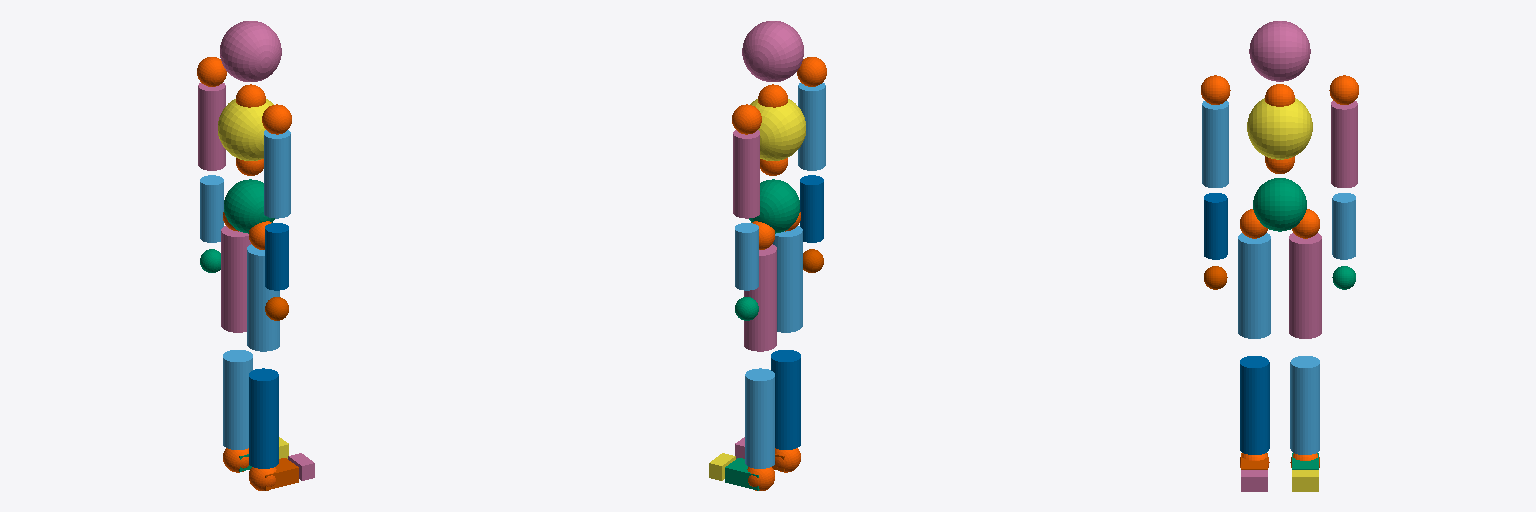
--- Render facts (derived) ---
3 views of the same robot in one strip: view 1: azimuth 30°, elevation 25°; view 2: azimuth 150°, elevation 25°; view 3: azimuth 270°, elevation 25° (orthographic).
Robot: W0007 — 35 links, 34 joints (28 revolute, 6 fixed); root link base_link; default pose: all joints at 0.
Links seen in each view (by area): view 1: neck, right_knee, left_hip, left_knee, right_hip, chest, right_shoulder, left_shoulder, root, right_elbow, left_elbow, chest_right_shoulder_link2 (+3 smaller); view 2: neck, left_knee, right_hip, right_knee, left_hip, chest, left_shoulder, right_shoulder, root, left_elbow, right_elbow, chest_left_shoulder_link2 (+3 smaller); view 3: right_hip, left_hip, chest, neck, right_knee, left_knee, right_shoulder, left_shoulder, root, right_elbow, left_elbow, chest_right_shoulder_link2 (+6 smaller).
Link boxes in pixels (x1,y1,x2,y2): neck: [220, 21, 281, 81]; right_knee: [249, 368, 278, 468]; left_hip: [221, 226, 250, 332]; left_knee: [223, 350, 252, 449]; right_hip: [247, 244, 279, 351]; chest: [218, 99, 273, 160]; right_shoulder: [264, 130, 290, 218]; left_shoulder: [198, 83, 225, 170]; root: [224, 179, 274, 233]; right_elbow: [265, 223, 288, 290]; left_elbow: [200, 175, 223, 242]; chest_right_shoulder_link2: [262, 104, 291, 134]; neck: [742, 21, 803, 81]; left_knee: [745, 368, 774, 468]; right_hip: [773, 226, 802, 332]; right_knee: [771, 350, 800, 449]; left_hip: [744, 244, 776, 351]; chest: [750, 99, 805, 160]; left_shoulder: [733, 130, 759, 218]; right_shoulder: [798, 83, 825, 170]; root: [749, 179, 799, 233]; left_elbow: [735, 223, 758, 290]; right_elbow: [800, 175, 823, 242]; chest_left_shoulder_link2: [732, 104, 761, 134]; right_hip: [1238, 233, 1270, 338]; left_hip: [1289, 233, 1321, 338]; chest: [1247, 98, 1312, 159]; neck: [1249, 21, 1310, 81]; right_knee: [1240, 356, 1269, 454]; left_knee: [1290, 356, 1319, 454]; right_shoulder: [1202, 101, 1228, 187]; left_shoulder: [1331, 101, 1357, 187]; root: [1253, 178, 1306, 231]; right_elbow: [1204, 193, 1227, 259]; left_elbow: [1332, 193, 1355, 259]; chest_right_shoulder_link2: [1201, 75, 1230, 104].
Size in the robot's own frame: 0.28 by 0.53 by 1.67 metres.
Geometry: primitives only (box / cylinder / sphere), no mesh files.

robot.urdf — W0007:
<?xml version="1.0" ?>
            <robot name="W0007">
            <material name="orange">
                <color rgba="1.0 0.4235294117647059 0.0392156862745098 1.0"/>
            </material>
            <link name="base_link">
                </link>
            <link name="base">
                </link>
            <joint name="j_base_base_link_rotation" type="fixed">
                <parent link="base_link"/>
                <child link="base"/>
                <origin rpy="1.5707963267948966 0 0" xyz="0 0 0"/>
            </joint>
            <link name="root">
                <inertial>
                <origin rpy="0 0 0" xyz="0.0 0.07 0.0"/>
                <mass value="6.000000"/>
                <inertia ixx="0.019440000000000002" ixy="0" ixz="0" iyy="0.019440000000000002" iyz="0" izz="0.019440000000000002"/>
                </inertial>
                <collision>
                <origin rpy="0 0 0" xyz="0.000000 0.070000 0.000000"/>
                <geometry>
                    <sphere radius="0.09"/>
                </geometry>
                </collision>
                <visual>
                <origin rpy="0 0 0" xyz="0.000000 0.070000 0.000000"/>
                <geometry>
                    <sphere radius="0.09"/>
                </geometry>
                </visual>
            </link>
            <joint name="j_root" type="fixed">
                <parent link="base"/>
                <child link="root"/>
                <origin rpy="0 0 0" xyz="0 0.000000 0.000000"/>
            </joint>
            <link name="chest">
                <inertial>
                <origin rpy="0 0 0" xyz="0.000000 0.120000 0.000000"/>
                <mass value="14.000000"/>
                <inertia ixx="0.06776000000000001" ixy="0" ixz="0" iyy="0.06776000000000001" iyz="0" izz="0.06776000000000001"/>
                </inertial>
                <collision>
                <origin rpy="0 0 0" xyz="0.000000 0.120000 0.000000"/>
                <geometry>
                    <sphere radius="0.11"/>
                </geometry>
                </collision>
                <visual>
                <origin rpy="0 0 0" xyz="0.000000 0.120000 0.000000"/>
                <geometry>
                    <sphere radius="0.11"/>
                </geometry>
                </visual>
            </link>
            <link name="root_chest_link1">
                <inertial>
                <mass value="1e-02"/>
                <inertia ixx="1e-02" ixy="0" ixz="0" iyy="1e-02" iyz="0" izz="1e-02"/>
                </inertial>
            </link>
            <joint name="j_root_chest_joint1" type="revolute">
                <origin rpy="0 0 0" xyz="0.0 0.236151 0.000000"/>
                <parent link="root"/>
                <child link="root_chest_link1"/>
                <axis xyz="1 0 0"/>
                <limit effort="200" lower="-1.2" upper="1.2" velocity="3"/>
            </joint>
            <link name="root_chest_link2">
                <inertial>
                <mass value="1e-02"/>
                <inertia ixx="1e-02" ixy="0" ixz="0" iyy="1e-02" iyz="0" izz="1e-02"/>
                </inertial>
                <visual>
                <geometry>
                    <sphere radius="0.05"/>
                </geometry>
                <material name="orange"/>
                </visual>
            </link>
            <joint name="j_root_chest_joint2" type="revolute">
                <parent link="root_chest_link1"/>
                <child link="root_chest_link2"/>
                <axis xyz="0 1 0"/>
                <limit effort="200" lower="-1.2" upper="1.2" velocity="3"/>
            </joint>
            <joint name="j_root_chest_joint3" type="revolute">
                <parent link="root_chest_link2"/>
                <child link="chest"/>
                <axis xyz="0 0 1"/>
                <limit effort="200" lower="-1.2" upper="1.2" velocity="3"/>
            </joint>
            <link name="neck">
                <inertial>
                <origin rpy="0 0 0" xyz="0.0 0.175 0.0"/>
                <mass value="2.000000"/>
                <inertia ixx="0.008405" ixy="0" ixz="0" iyy="0.008405" iyz="0" izz="0.008405"/>
                </inertial>
                <collision>
                <origin rpy="0 0 0" xyz="0.0 0.175 0.0"/>
                <geometry>
                    <sphere radius="0.1025"/>
                </geometry>
                </collision>
                <visual>
                <origin rpy="0 0 0" xyz="0.0 0.175 0.0"/>
                <geometry>
                    <sphere radius="0.1025"/>
                </geometry>
                </visual>
            </link>
            <link name="chest_neck_link1">
                <inertial>
                <mass value="1e-02"/>
                <inertia ixx="1e-02" ixy="0" ixz="0" iyy="1e-02" iyz="0" izz="1e-02"/>
                </inertial>
            </link>
            <joint name="j_chest_neck_joint1" type="revolute">
                <origin rpy="0 0 0" xyz="0.000000 0.223894 0.000000"/>
                <parent link="chest"/>
                <child link="chest_neck_link1"/>
                <axis xyz="1 0 0"/>
                <limit effort="50" lower="-1" upper="1" velocity="3"/>
            </joint>
            <link name="chest_neck_link2">
                <inertial>
                <mass value="1e-02"/>
                <inertia ixx="1e-02" ixy="0" ixz="0" iyy="1e-02" iyz="0" izz="1e-02"/>
                </inertial>
                <visual>
                <geometry>
                    <sphere radius="0.05"/>
                </geometry>
                <material name="orange"/>
                </visual>
            </link>
            <joint name="j_chest_neck_joint2" type="revolute">
                <parent link="chest_neck_link1"/>
                <child link="chest_neck_link2"/>
                <axis xyz="0 1 0"/>
                <limit effort="50" lower="-1" upper="1" velocity="3"/>
            </joint>
            <joint name="j_chest_neck_joint3" type="revolute">
                <parent link="chest_neck_link2"/>
                <child link="neck"/>
                <axis xyz="0 0 1"/>
                <limit effort="50" lower="-1" upper="1" velocity="3"/>
            </joint>
            <link name="right_hip">
                <inertial>
                <origin rpy="0 0 0" xyz="0.000000 -0.210000 0.000000"/>
                <mass value="4.500000"/>
                <inertia ixx="0.037153124999999995" ixy="0.0" ixz="0.0" iyy="0.037153124999999995" iyz="0.0" izz="0.00680625"/>
                </inertial>
                <collision>
                <origin rpy="1.5707963267948966 0 0" xyz="0.000000 -0.210000 0.000000"/>
                <geometry>
                    <cylinder length="0.22499999999999998" radius="0.0275"/>
                </geometry>
                </collision>
                <visual>
                <origin rpy="1.5707963267948966 0 0" xyz="0.000000 -0.22440000000000004 0.000000"/>
                <geometry>
                    <cylinder length="0.3488000000000001" radius="0.055"/>
                </geometry>
                </visual>
            </link>
            <link name="root_right_hip_link1">
                <inertial>
                <mass value="1e-02"/>
                <inertia ixx="1e-02" ixy="0" ixz="0" iyy="1e-02" iyz="0" izz="1e-02"/>
                </inertial>
            </link>
            <joint name="j_root_right_hip_joint1" type="revolute">
                <origin rpy="0 0 0" xyz="0.000000 0.000000 0.084887"/>
                <parent link="root"/>
                <child link="root_right_hip_link1"/>
                <axis xyz="1 0 0"/>
                <limit effort="200" lower="-1.5" upper="1.5" velocity="3"/>
            </joint>
            <link name="root_right_hip_link2">
                <inertial>
                <mass value="1e-02"/>
                <inertia ixx="1e-02" ixy="0" ixz="0" iyy="1e-02" iyz="0" izz="1e-02"/>
                </inertial>
                <visual>
                <geometry>
                    <sphere radius="0.05"/>
                </geometry>
                <material name="orange"/>
                </visual>
            </link>
            <joint name="j_root_right_hip_joint2" type="revolute">
                <parent link="root_right_hip_link1"/>
                <child link="root_right_hip_link2"/>
                <axis xyz="0 1 0"/>
                <limit effort="200" lower="-1.5" upper="1.5" velocity="3"/>
            </joint>
            <joint name="j_root_right_hip_joint3" type="revolute">
                <parent link="root_right_hip_link2"/>
                <child link="right_hip"/>
                <axis xyz="0 0 1"/>
                <limit effort="200" lower="-1.5" upper="1.5" velocity="3"/>
            </joint>
            <link name="right_knee">
                <inertial>
                <origin rpy="0 0 0" xyz="0.000000 -0.200000 0.000000"/>
                <mass value="3.000000"/>
                <inertia ixx="0.1" ixy="0" ixz="0" iyy="0.1" iyz="0" izz="0.1"/>
                </inertial>
                <collision>
                <origin rpy="1.5707963267948966 0 0" xyz="0.000000 -0.200000 0.000000"/>
                <geometry>
                    <cylinder length="0.23249999999999998" radius="0.025"/>
                </geometry>
                </collision>
                <visual>
                <origin rpy="1.5707963267948966 0 0" xyz="0.000000 -0.2 0.000000"/>
                <geometry>
                    <cylinder length="0.32" radius="0.05"/>
                </geometry>
                </visual>
            </link>
            <joint name="j_right_knee" type="revolute">
                <parent link="right_hip"/>
                <child link="right_knee"/>
                <limit effort="150.0" lower="-3.14" upper="0." velocity="0.5"/>
                <origin rpy="0 0 0" xyz="0.000000 -0.46880000000000005 0.000000"/>
                <axis xyz="0.000000 0.000000 1.000000"/>
            </joint>
            <link name="right_ankle">
                <inertial>
                <origin rpy="0 0 0" xyz="0.045 -0.00225 0.000000"/>
                <mass value="1.000000"/>
                <inertia ixx="0.0009270833333333333" ixy="0.0" ixz="0.0" iyy="0.0028628333333333327" iyz="0.0" izz="0.003285749999999999"/>
                </inertial>
                <collision>
                <origin rpy="0 0 0" xyz="0.045 -0.00225 0.000000"/>
                <geometry>
                    <box size="0.127 0.055 0.09"/>
                </geometry>
                </collision>
                <visual>
                <origin rpy="0 0 0" xyz="0.045 -0.00225 0.000000"/>
                <geometry>
                    <box size="0.127 0.055 0.09"/>
                </geometry>
                </visual>
            </link>
            <joint name="j_right_toe" type="fixed">
                <parent link="right_ankle"/>
                <child link="right_toe"/>
                <limit effort="150.0" lower="-3.14" upper="0." velocity="0.5"/>
                <origin rpy="0 0 0" xyz="0.1 0.0 0.0"/>
                <axis xyz="0.000000 0.000000 1.000000"/>
            </joint>
            <link name="right_toe">
                <inertial>
                <origin rpy="0 0 0" xyz="0.045 0.0 0.0"/>
                <mass value="0.3"/>
                <inertia ixx="0.0009270833333333333" ixy="0.0" ixz="0.0" iyy="0.0028628333333333327" iyz="0.0" izz="0.003285749999999999"/>
                </inertial>
                <collision>
                <origin rpy="0 0 0" xyz="0.045 0.0 0.0"/>
                <geometry>
                    <box size="0.05 0.055 0.09"/>
                </geometry>
                </collision>
                <visual>
                <origin rpy="0 0 0" xyz="0.045 0.0 0.0"/>
                <geometry>
                    <box size="0.05 0.055 0.09"/>
                </geometry>
                </visual>
            </link>
            <link name="right_knee_right_ankle_link1">
                <inertial>
                <mass value="1e-02"/>
                <inertia ixx="1e-02" ixy="0" ixz="0" iyy="1e-02" iyz="0" izz="1e-02"/>
                </inertial>
            </link>
            <joint name="j_right_knee_right_ankle_joint1" type="revolute">
                <origin rpy="0 0 0" xyz="0.000000 -0.41000000000000003 0.000000"/>
                <parent link="right_knee"/>
                <child link="right_knee_right_ankle_link1"/>
                <axis xyz="1 0 0"/>
                <limit effort="90" lower="-1.2" upper="1.2" velocity="3"/>
            </joint>
            <link name="right_knee_right_ankle_link2">
                <inertial>
                <mass value="1e-02"/>
                <inertia ixx="1e-02" ixy="0" ixz="0" iyy="1e-02" iyz="0" izz="1e-02"/>
                </inertial>
                <visual>
                <geometry>
                    <sphere radius="0.05"/>
                </geometry>
                <material name="orange"/>
                </visual>
            </link>
            <joint name="j_right_knee_right_ankle_joint2" type="revolute">
                <parent link="right_knee_right_ankle_link1"/>
                <child link="right_knee_right_ankle_link2"/>
                <axis xyz="0 1 0"/>
                <limit effort="90" lower="-1.2" upper="1.2" velocity="3"/>
            </joint>
            <joint name="j_right_knee_right_ankle_joint3" type="revolute">
                <parent link="right_knee_right_ankle_link2"/>
                <child link="right_ankle"/>
                <axis xyz="0 0 1"/>
                <limit effort="90" lower="-1.2" upper="1.2" velocity="3"/>
            </joint>
            <link name="right_shoulder">
                <inertial>
                <origin rpy="0 0 0" xyz="0.000000 -0.140000 0.000000"/>
                <mass value="1.500000"/>
                <inertia ixx="0.004809374999999999" ixy="0.0" ixz="0.0" iyy="0.004809374999999999" iyz="0.0" izz="0.0015187500000000001"/>
                </inertial>
                <collision>
                <origin rpy="1.5707963267948966 0 0" xyz="0.000000 -0.140000 0.000000"/>
                <geometry>
                    <cylinder length="0.135" radius="0.0225"/>
                </geometry>
                </collision>
                <visual>
                <origin rpy="1.5707963267948966 0 0" xyz="0.000000 -0.195 0.000000"/>
                <geometry>
                    <cylinder length="0.29" radius="0.045"/>
                </geometry>
                </visual>
            </link>
            <link name="chest_right_shoulder_link1">
                <inertial>
                <mass value="1e-02"/>
                <inertia ixx="1e-02" ixy="0" ixz="0" iyy="1e-02" iyz="0" izz="1e-02"/>
                </inertial>
            </link>
            <joint name="j_chest_right_shoulder_joint1" type="revolute">
                <origin rpy="0 0 0" xyz="-0.02406 0.24350 0.215"/>
                <parent link="chest"/>
                <child link="chest_right_shoulder_link1"/>
                <axis xyz="1 0 0"/>
                <limit effort="100" lower="-3.14" upper="3.14" velocity="3"/>
            </joint>
            <link name="chest_right_shoulder_link2">
                <inertial>
                <mass value="1e-02"/>
                <inertia ixx="1e-02" ixy="0" ixz="0" iyy="1e-02" iyz="0" izz="1e-02"/>
                </inertial>
                <visual>
                <geometry>
                    <sphere radius="0.05"/>
                </geometry>
                <material name="orange"/>
                </visual>
            </link>
            <joint name="j_chest_right_shoulder_joint2" type="revolute">
                <parent link="chest_right_shoulder_link1"/>
                <child link="chest_right_shoulder_link2"/>
                <axis xyz="0 1 0"/>
                <limit effort="100" lower="-3.14" upper="3.14" velocity="3"/>
            </joint>
            <joint name="j_chest_right_shoulder_joint3" type="revolute">
                <parent link="chest_right_shoulder_link2"/>
                <child link="right_shoulder"/>
                <axis xyz="0 0 1"/>
                <limit effort="100" lower="-3.14" upper="3.14" velocity="3"/>
            </joint>
            <link name="right_elbow">
                <inertial>
                <origin rpy="0 0 0" xyz="0.000000 -0.120000 0.000000"/>
                <mass value="1.000000"/>
                <inertia ixx="0.0019187499999999999" ixy="0.0" ixz="0.0" iyy="0.0019187499999999999" iyz="0.0" izz="0.0008"/>
                </inertial>
                <collision>
                <origin rpy="1.5707963267948966 0 0" xyz="0.0 -0.12 0.0"/>
                <geometry>
                    <cylinder length="0.10125" radius="0.02"/>
                </geometry>
                </collision>
                <visual>
                <origin rpy="1.5707963267948966 0 0" xyz="0.0 -0.12 0.0"/>
                <geometry>
                    <cylinder length="0.21" radius="0.04"/>
                </geometry>
                </visual>
            </link>
            <joint name="j_right_elbow" type="revolute">
                <parent link="right_shoulder"/>
                <child link="right_elbow"/>
                <limit effort="60.0" lower="0" upper="3.14" velocity="0.5"/>
                <origin rpy="0 0 0" xyz="0.000000 -0.38 0.000000"/>
                <axis xyz="0.000000 0.000000 1.000000"/>
            </joint>
            <link name="right_wrist">
                <inertial>
                <origin rpy="0 0 0" xyz="0.000000 0.000000 0.000000"/>
                <mass value="0.500000"/>
                <inertia ixx="0.00032" ixy="0" ixz="0" iyy="0.00032" iyz="0" izz="0.00032"/>
                </inertial>
                <collision>
                <origin rpy="0 0 0" xyz="0.000000 0.000000 0.000000"/>
                <geometry>
                    <sphere radius="0.04"/>
                </geometry>
                </collision>
                <visual>
                <origin rpy="0 0 0" xyz="0.000000 0.000000 0.000000"/>
                <geometry>
                    <sphere radius="0.04"/>
                </geometry>
                </visual>
            </link>
            <joint name="j_right_wrist" type="fixed">
                <parent link="right_elbow"/>
                <child link="right_wrist"/>
                <origin rpy="0 0 0" xyz="0.000000 -0.31 0.000000"/>
            </joint>
            <link name="left_hip">
                <inertial>
                <origin rpy="0 0 0" xyz="0.000000 -0.210000 0.000000"/>
                <mass value="4.500000"/>
                <inertia ixx="0.037153124999999995" ixy="0.0" ixz="0.0" iyy="0.037153124999999995" iyz="0.0" izz="0.00680625"/>
                </inertial>
                <collision>
                <origin rpy="1.5707963267948966 0 0" xyz="0.000000 -0.210000 0.000000"/>
                <geometry>
                    <cylinder length="0.22499999999999998" radius="0.0275"/>
                </geometry>
                </collision>
                <visual>
                <origin rpy="1.5707963267948966 0 0" xyz="0.000000 -0.22440000000000004 0.000000"/>
                <geometry>
                    <cylinder length="0.3488000000000001" radius="0.055"/>
                </geometry>
                </visual>
            </link>
            <link name="root_left_hip_link1">
                <inertial>
                <mass value="1e-02"/>
                <inertia ixx="1e-02" ixy="0" ixz="0" iyy="1e-02" iyz="0" izz="1e-02"/>
                </inertial>
            </link>
            <joint name="j_root_left_hip_joint1" type="revolute">
                <origin rpy="0 0 0" xyz="0.000000 0.000000 -0.084887"/>
                <parent link="root"/>
                <child link="root_left_hip_link1"/>
                <axis xyz="1 0 0"/>
                <limit effort="200" lower="-1.5" upper="1.5" velocity="3"/>
            </joint>
            <link name="root_left_hip_link2">
                <inertial>
                <mass value="1e-02"/>
                <inertia ixx="1e-02" ixy="0" ixz="0" iyy="1e-02" iyz="0" izz="1e-02"/>
                </inertial>
                <visual>
                <geometry>
                    <sphere radius="0.05"/>
                </geometry>
                <material name="orange"/>
                </visual>
            </link>
            <joint name="j_root_left_hip_joint2" type="revolute">
                <parent link="root_left_hip_link1"/>
                <child link="root_left_hip_link2"/>
                <axis xyz="0 1 0"/>
                <limit effort="200" lower="-1.5" upper="1.5" velocity="3"/>
            </joint>
            <joint name="j_root_left_hip_joint3" type="revolute">
                <parent link="root_left_hip_link2"/>
                <child link="left_hip"/>
                <axis xyz="0 0 1"/>
                <limit effort="200" lower="-1.5" upper="1.5" velocity="3"/>
            </joint>
            <link name="left_knee">
                <inertial>
                <origin rpy="0 0 0" xyz="0.000000 -0.200000 0.000000"/>
                <mass value="3.000000"/>
                <inertia ixx="0.025900000000000003" ixy="0.0" ixz="0.0" iyy="0.025900000000000003" iyz="0.0" izz="0.0037500000000000007"/>
                </inertial>
                <collision>
                <origin rpy="1.5707963267948966 0 0" xyz="0.000000 -0.200000 0.000000"/>
                <geometry>
                    <cylinder length="0.23249999999999998" radius="0.025"/>
                </geometry>
                </collision>
                <visual>
                <origin rpy="1.5707963267948966 0 0" xyz="0.000000 -0.2 0.000000"/>
                <geometry>
                    <cylinder length="0.32" radius="0.05"/>
                </geometry>
                </visual>
            </link>
            <joint name="j_left_knee" type="revolute">
                <parent link="left_hip"/>
                <child link="left_knee"/>
                <limit effort="150.0" lower="-3.14" upper="0." velocity="0.5"/>
                <origin rpy="0 0 0" xyz="0.000000 -0.46880000000000005 0.000000"/>
                <axis xyz="0.000000 0.000000 1.000000"/>
            </joint>
            <link name="left_ankle">
                <inertial>
                <origin rpy="0 0 0" xyz="0.045 -0.00225 0.0"/>
                <mass value="0.7"/>
                <inertia ixx="0.0009270833333333333" ixy="0.0" ixz="0.0" iyy="0.0028628333333333327" iyz="0.0" izz="0.003285749999999999"/>
                </inertial>
                <collision>
                <origin rpy="0 0 0" xyz="0.045 -0.00225 0.0"/>
                <geometry>
                    <box size="0.127 0.055 0.09"/>
                </geometry>
                </collision>
                <visual>
                <origin rpy="0 0 0" xyz="0.045 -0.00225 0.0"/>
                <geometry>
                    <box size="0.127 0.055 0.09"/>
                </geometry>
                </visual>
            </link>
            <joint name="j_left_toe" type="fixed">
                <parent link="left_ankle"/>
                <child link="left_toe"/>
                <limit effort="150.0" lower="-3.14" upper="0." velocity="0.5"/>
                <origin rpy="0 0 0" xyz="0.1 0.0 0.0"/>
                <axis xyz="0.000000 0.000000 1.000000"/>
            </joint>
            <link name="left_toe">
                <inertial>
                <origin rpy="0 0 0" xyz="0.045 0.0 0.0"/>
                <mass value="0.3"/>
                <inertia ixx="0.0009270833333333333" ixy="0.0" ixz="0.0" iyy="0.0028628333333333327" iyz="0.0" izz="0.003285749999999999"/>
                </inertial>
                <collision>
                <origin rpy="0 0 0" xyz="0.045 0.0 0.0"/>
                <geometry>
                    <box size="0.05 0.055 0.09"/>
                </geometry>
                </collision>
                <visual>
                <origin rpy="0 0 0" xyz="0.045 0.0 0.0"/>
                <geometry>
                    <box size="0.05 0.055 0.09"/>
                </geometry>
                </visual>
            </link>
            <link name="left_knee_left_ankle_link1">
                <inertial>
                <mass value="1e-02"/>
                <inertia ixx="1e-02" ixy="0" ixz="0" iyy="1e-02" iyz="0" izz="1e-02"/>
                </inertial>
            </link>
            <joint name="j_left_knee_left_ankle_joint1" type="revolute">
                <origin rpy="0 0 0" xyz="0.000000 -0.41000000000000003 0.000000"/>
                <parent link="left_knee"/>
                <child link="left_knee_left_ankle_link1"/>
                <axis xyz="1 0 0"/>
                <limit effort="90" lower="-1.2" upper="1.2" velocity="3"/>
            </joint>
            <link name="left_knee_left_ankle_link2">
                <inertial>
                <mass value="1e-02"/>
                <inertia ixx="1e-02" ixy="0" ixz="0" iyy="1e-02" iyz="0" izz="1e-02"/>
                </inertial>
                <visual>
                <geometry>
                    <sphere radius="0.05"/>
                </geometry>
                <material name="orange"/>
                </visual>
            </link>
            <joint name="j_left_knee_left_ankle_joint2" type="revolute">
                <parent link="left_knee_left_ankle_link1"/>
                <child link="left_knee_left_ankle_link2"/>
                <axis xyz="0 1 0"/>
                <limit effort="90" lower="-1.2" upper="1.2" velocity="3"/>
            </joint>
            <joint name="j_left_knee_left_ankle_joint3" type="revolute">
                <parent link="left_knee_left_ankle_link2"/>
                <child link="left_ankle"/>
                <axis xyz="0 0 1"/>
                <limit effort="90" lower="-1.2" upper="1.2" velocity="3"/>
            </joint>
            <link name="left_shoulder">
                <inertial>
                <origin rpy="0 0 0" xyz="0.000000 -0.140000 0.000000"/>
                <mass value="1.500000"/>
                <inertia ixx="0.004809374999999999" ixy="0.0" ixz="0.0" iyy="0.004809374999999999" iyz="0.0" izz="0.0015187500000000001"/>
                </inertial>
                <collision>
                <origin rpy="1.5707963267948966 0 0" xyz="0.000000 -0.140000 0.000000"/>
                <geometry>
                    <cylinder length="0.135" radius="0.0225"/>
                </geometry>
                </collision>
                <visual>
                <origin rpy="1.5707963267948966 0 0" xyz="0.000000 -0.195 0.000000"/>
                <geometry>
                    <cylinder length="0.29" radius="0.045"/>
                </geometry>
                </visual>
            </link>
            <link name="chest_left_shoulder_link1">
                <inertial>
                <mass value="1e-02"/>
                <inertia ixx="1e-02" ixy="0" ixz="0" iyy="1e-02" iyz="0" izz="1e-02"/>
                </inertial>
            </link>
            <joint name="j_chest_left_shoulder_joint1" type="revolute">
                <origin rpy="0 0 0" xyz="-0.02405 0.24350 -0.215"/>
                <parent link="chest"/>
                <child link="chest_left_shoulder_link1"/>
                <axis xyz="1 0 0"/>
                <limit effort="100" lower="-3.14" upper="3.14" velocity="3"/>
            </joint>
            <link name="chest_left_shoulder_link2">
                <inertial>
                <mass value="1e-02"/>
                <inertia ixx="1e-02" ixy="0" ixz="0" iyy="1e-02" iyz="0" izz="1e-02"/>
                </inertial>
                <visual>
                <geometry>
                    <sphere radius="0.05"/>
                </geometry>
                <material name="orange"/>
                </visual>
            </link>
            <joint name="j_chest_left_shoulder_joint2" type="revolute">
                <parent link="chest_left_shoulder_link1"/>
                <child link="chest_left_shoulder_link2"/>
                <axis xyz="0 1 0"/>
                <limit effort="100" lower="-3.14" upper="3.14" velocity="3"/>
            </joint>
            <joint name="j_chest_left_shoulder_joint3" type="revolute">
                <parent link="chest_left_shoulder_link2"/>
                <child link="left_shoulder"/>
                <axis xyz="0 0 1"/>
                <limit effort="100" lower="-3.14" upper="3.14" velocity="3"/>
            </joint>
            <link name="left_elbow">
                <inertial>
                <origin rpy="0 0 0" xyz="0.000000 -0.12 0.000000"/>
                <mass value="1.000000"/>
                <inertia ixx="0.0019187499999999999" ixy="0.0" ixz="0.0" iyy="0.0019187499999999999" iyz="0.0" izz="0.0008"/>
                </inertial>
                <collision>
                <origin rpy="1.5707963267948966 0 0" xyz="0.000000 -0.12 0.000000"/>
                <geometry>
                    <cylinder length="0.10125" radius="0.02"/>
                </geometry>
                </collision>
                <visual>
                <origin rpy="1.5707963267948966 0 0" xyz="0.000000 -0.12 0.000000"/>
                <geometry>
                    <cylinder length="0.21" radius="0.04"/>
                </geometry>
                </visual>
            </link>
            <joint name="j_left_elbow" type="revolute">
                <parent link="left_shoulder"/>
                <child link="left_elbow"/>
                <limit effort="60.0" lower="0" upper="3.14" velocity="0.5"/>
                <origin rpy="0 0 0" xyz="0.000000 -0.38 0.000000"/>
                <axis xyz="0.000000 0.000000 1.000000"/>
            </joint>
            <link name="left_wrist">
                <inertial>
                <origin rpy="0 0 0" xyz="0.000000 0.000000 0.000000"/>
                <mass value="0.500000"/>
                <inertia ixx="0.00032" ixy="0" ixz="0" iyy="0.00032" iyz="0" izz="0.00032"/>
                </inertial>
                <collision>
                <origin rpy="0 0 0" xyz="0.000000 0.000000 0.000000"/>
                <geometry>
                    <sphere radius="0.04"/>
                </geometry>
                </collision>
                <visual>
                <origin rpy="0 0 0" xyz="0.000000 0.000000 0.000000"/>
                <geometry>
                    <sphere radius="0.04"/>
                </geometry>
                </visual>
            </link>
            <joint name="j_left_wrist_joint" type="fixed">
                <parent link="left_elbow"/>
                <child link="left_wrist"/>
                <origin rpy="0 0 0" xyz="0.000000 -0.31 0.000000"/>
            </joint>
            </robot>
            
